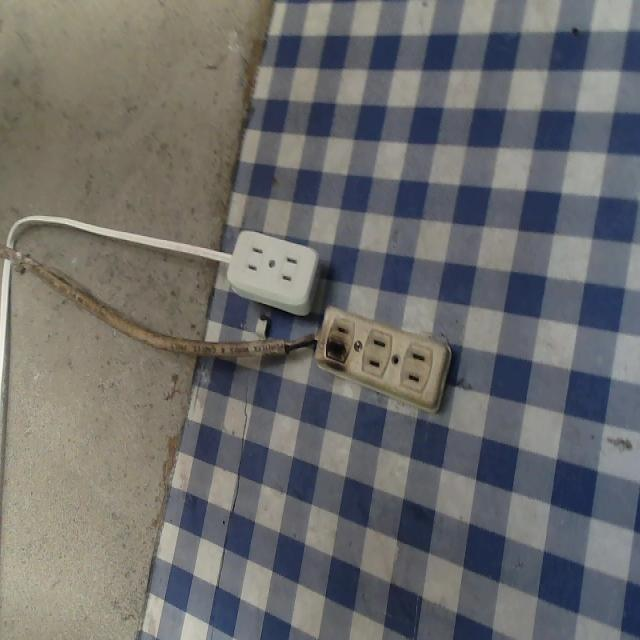-: (318, 321, 356, 376)
